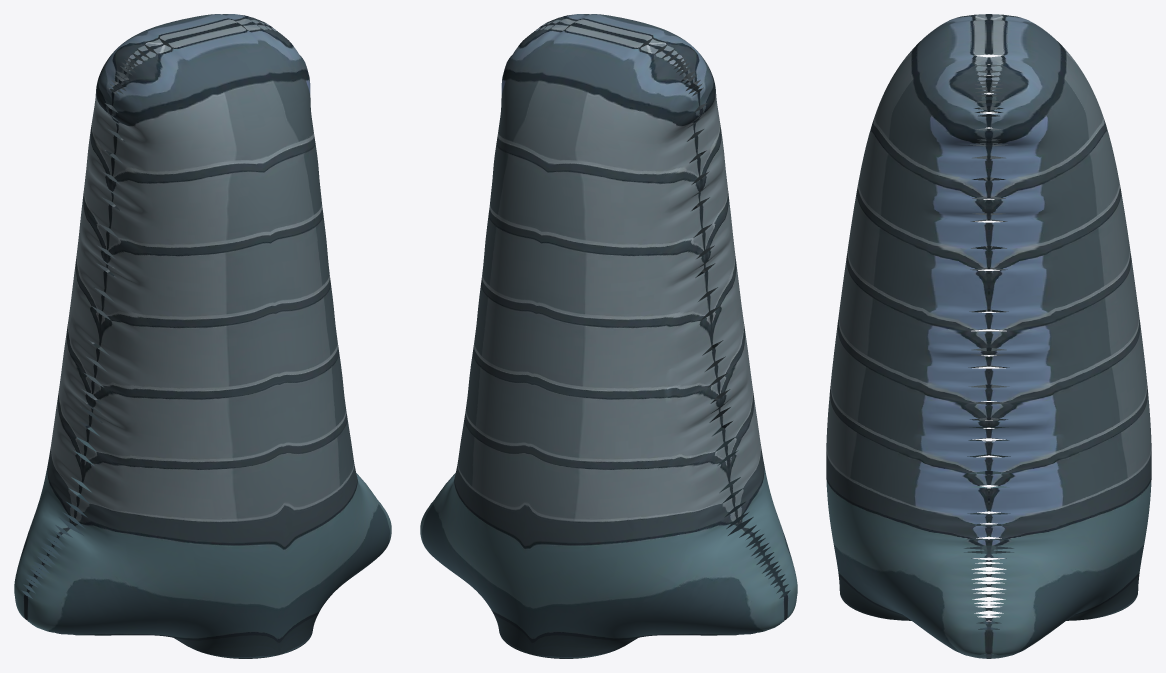
File: ribbed_conduit.glb
3 views of the same model, side by side, from view 1: azimuth 30°, elevation 25°; view 2: azimuth 150°, elevation 25°; view 3: azimuth 270°, elevation 25° (orthographic). The views are drawn at different scales.
Parts seen in each view (by area): view 1: ribbed_conduit; view 2: ribbed_conduit; view 3: ribbed_conduit.
Part boxes in pixels (<box>): ribbed_conduit: <box>14,14,391,658</box>; ribbed_conduit: <box>420,14,797,658</box>; ribbed_conduit: <box>826,14,1151,658</box>.
Bounding box in the file's own units: 0.9833 × 1.5 × 0.7981.
Materials: 1 (1 with a texture image).
